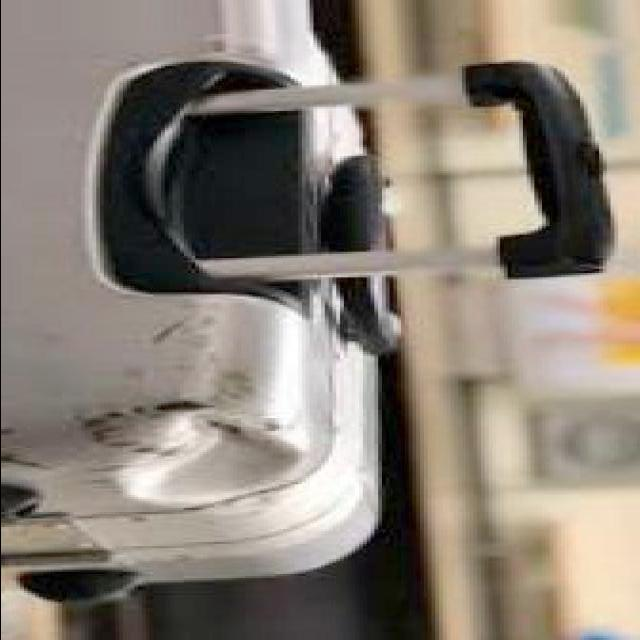Damage-bag: (1, 400, 330, 522)
